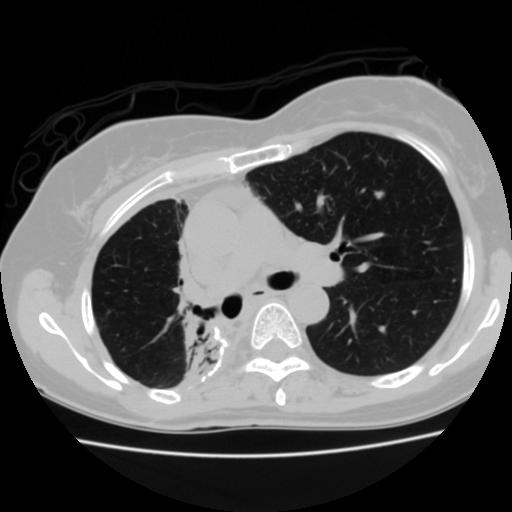nodule: (371, 186, 387, 202)
